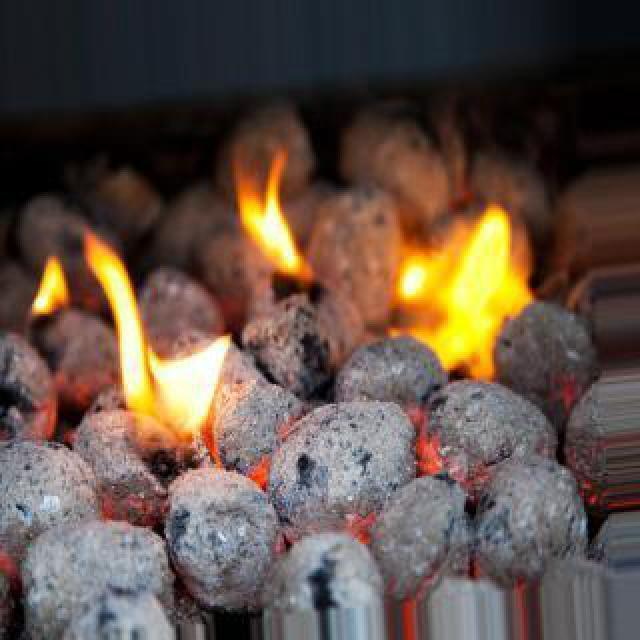Fire: (378, 196, 528, 400), (140, 298, 242, 456), (232, 120, 326, 284), (78, 210, 140, 430), (24, 240, 70, 346)
